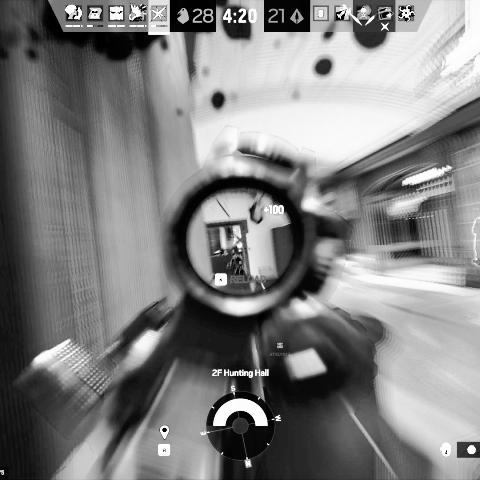Character: (229, 241, 246, 276)
Friend_label: (470, 203, 480, 213)
